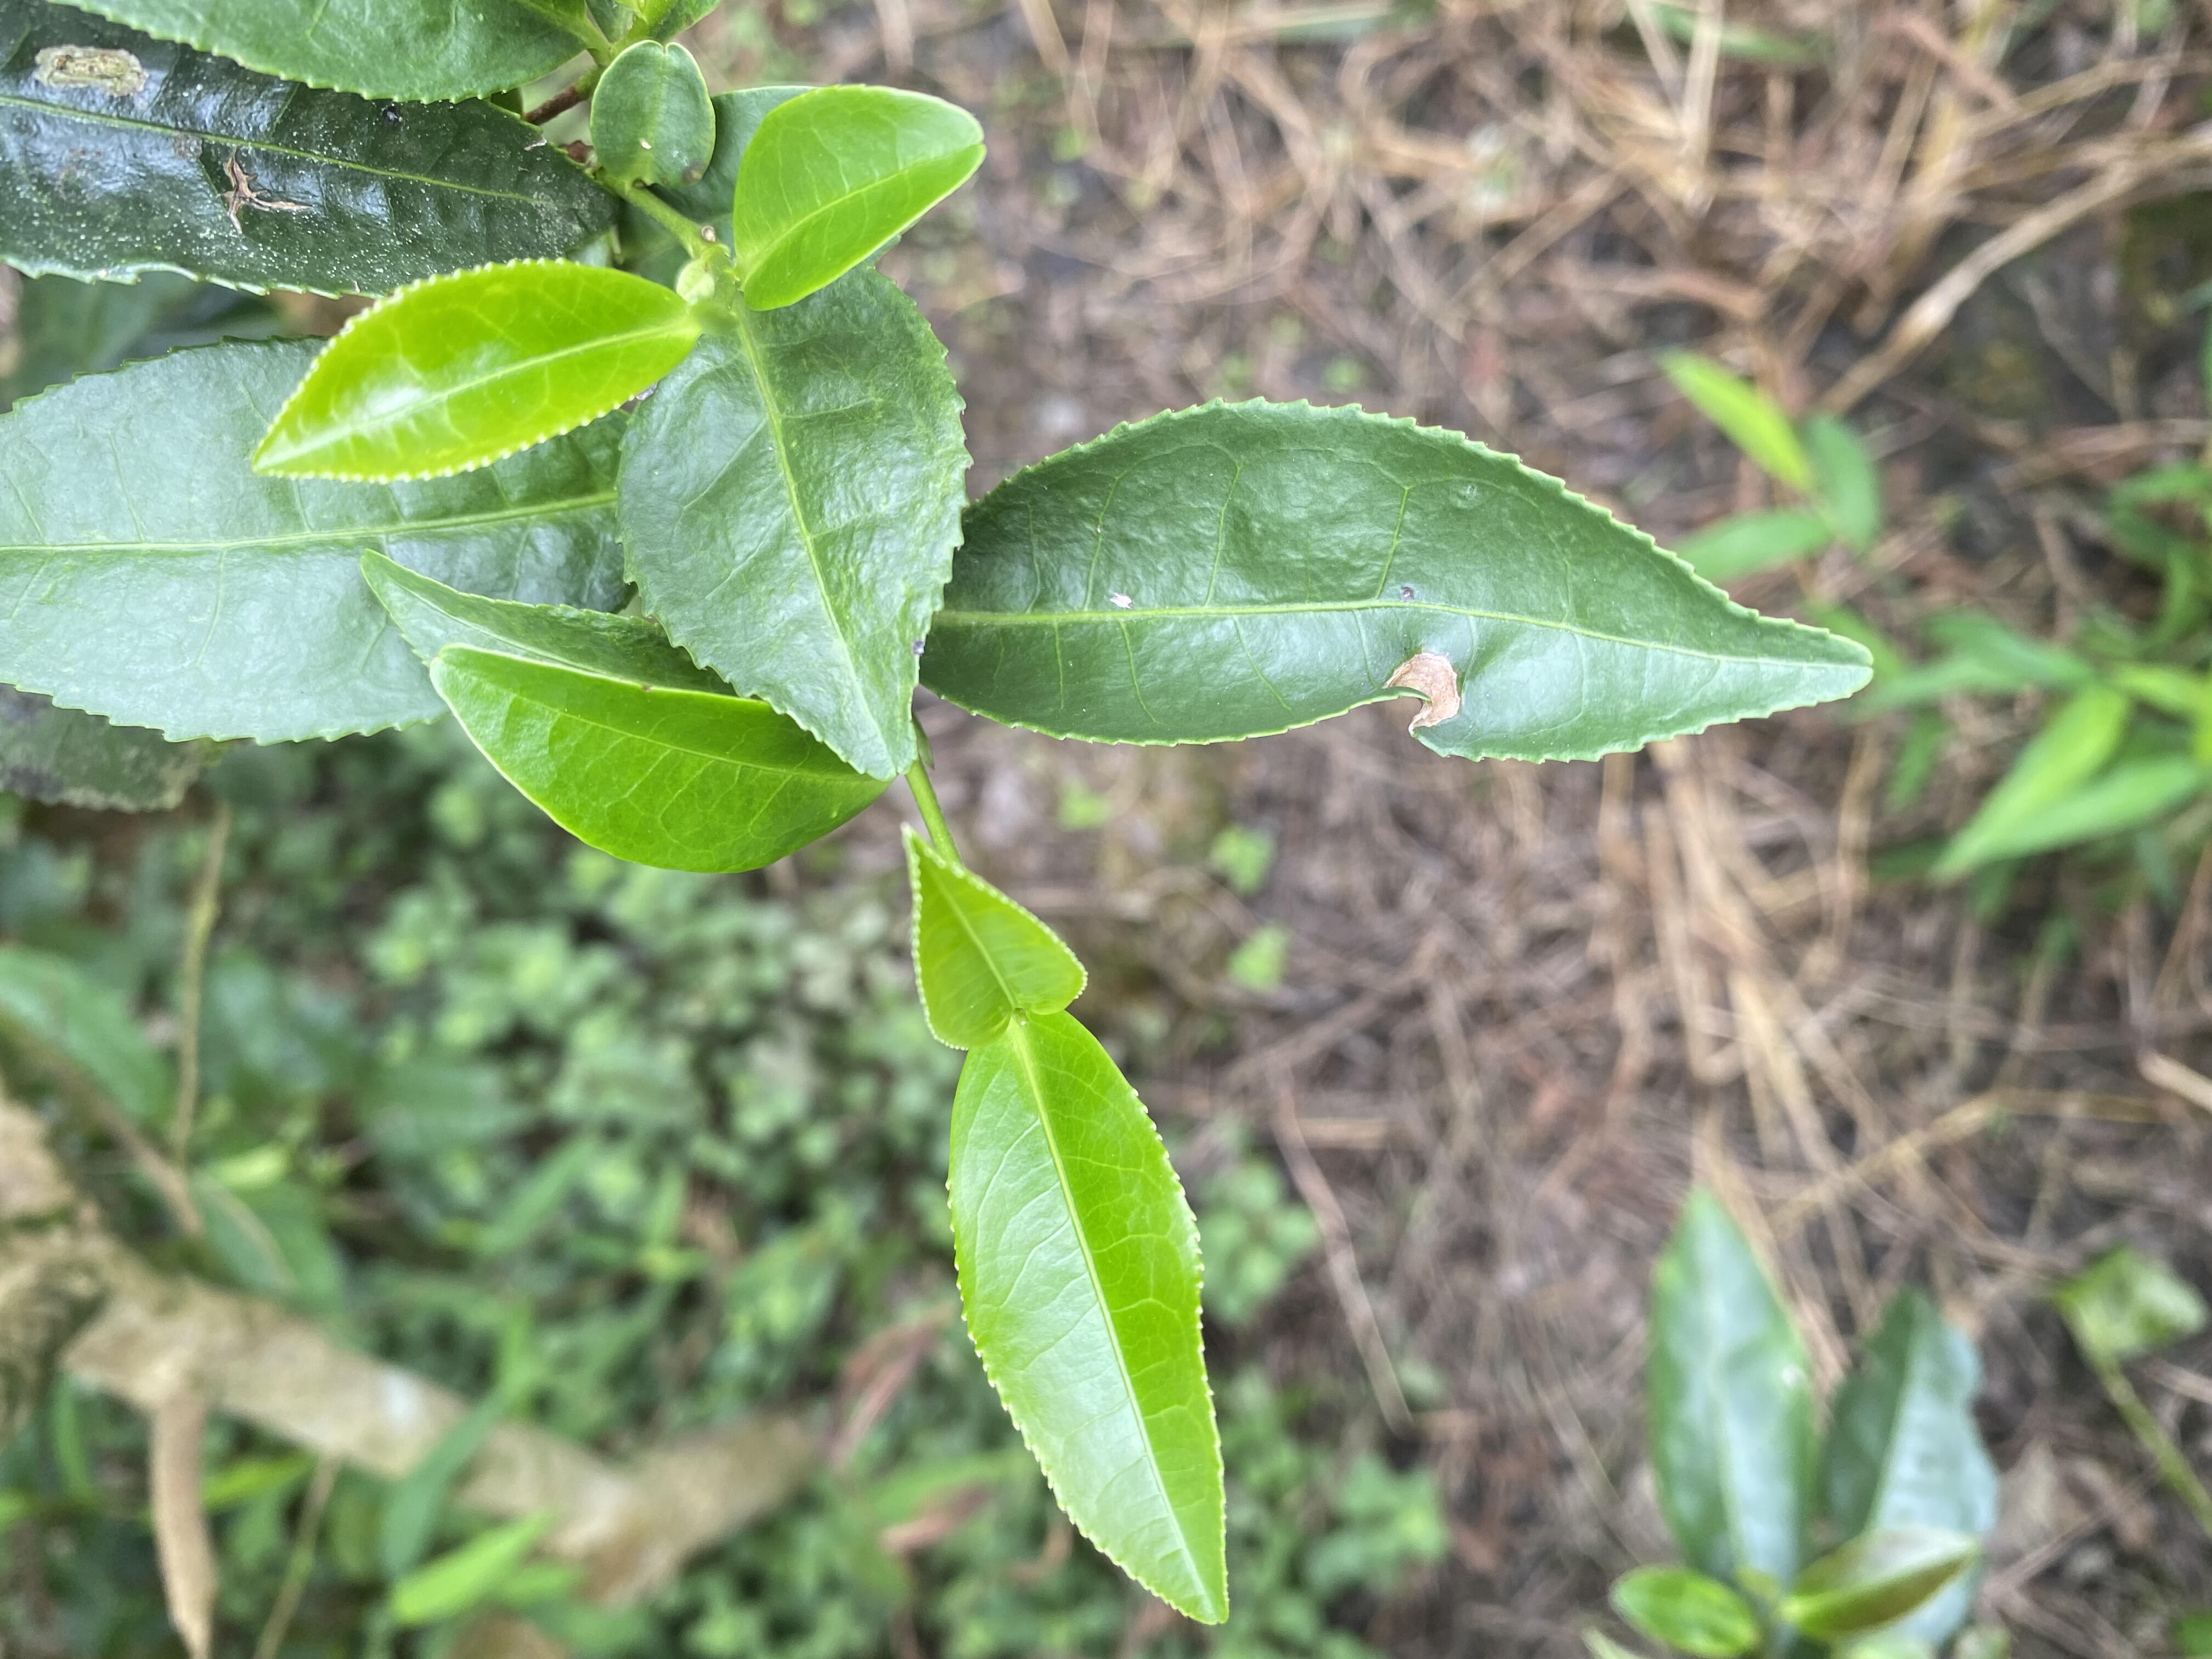healthy: (615, 272, 967, 781), (944, 1014, 1230, 1624), (427, 647, 899, 878), (251, 254, 704, 490), (728, 82, 991, 312), (897, 826, 1090, 1049)
tanju_low: (921, 401, 1878, 767), (3, 3, 620, 300)
